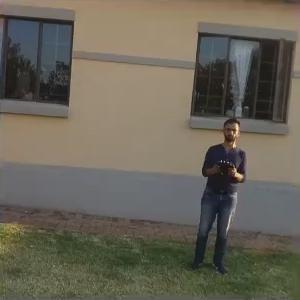follow: (185, 112, 249, 280)
